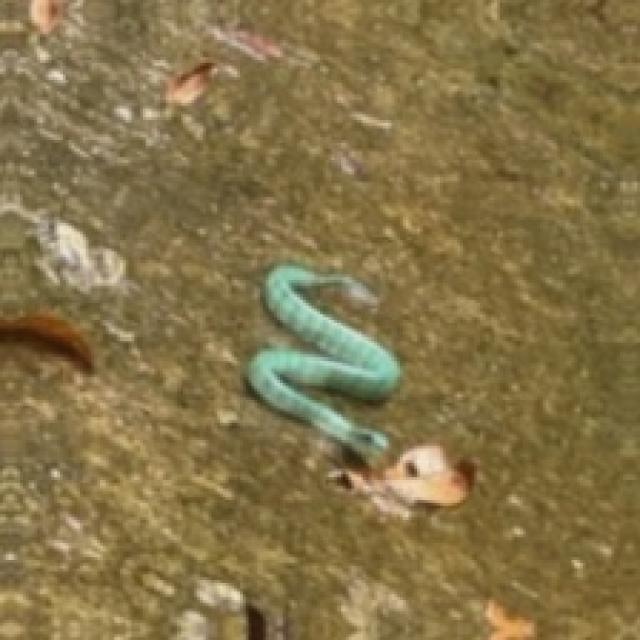north ph temple pitviper: (246, 266, 397, 457)
